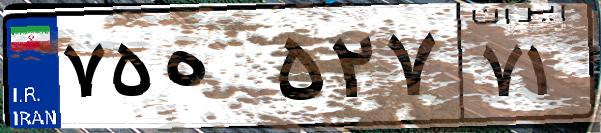1: (525, 38, 570, 115)
2: (330, 28, 385, 110)
5: (270, 28, 330, 110), (110, 28, 158, 98)
7: (385, 28, 445, 110), (57, 26, 110, 100), (475, 38, 525, 113)
ه: (158, 20, 270, 120)
